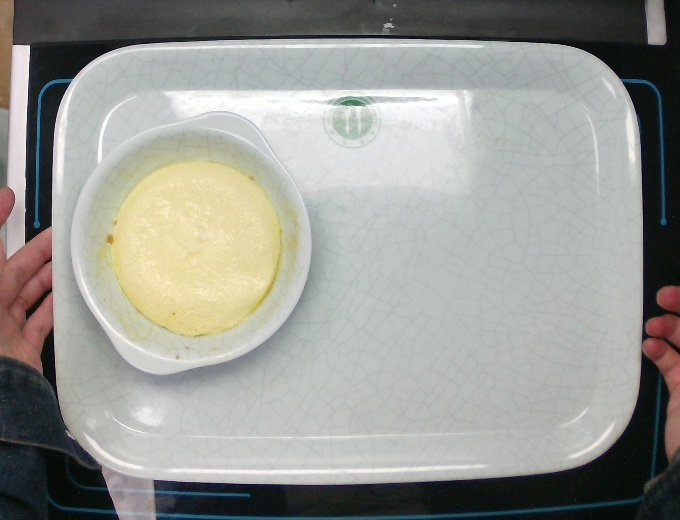JYsf-Shuang_Er_Wan: (66, 98, 319, 383)
